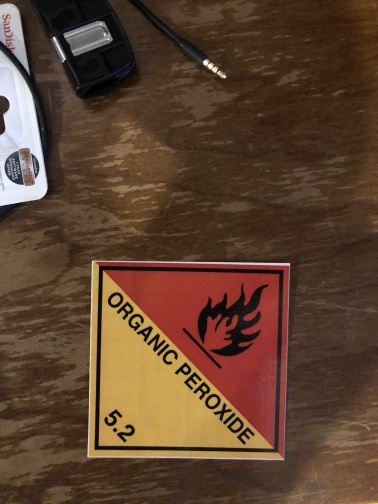OrganicPeroxide: (88, 261, 289, 460)
